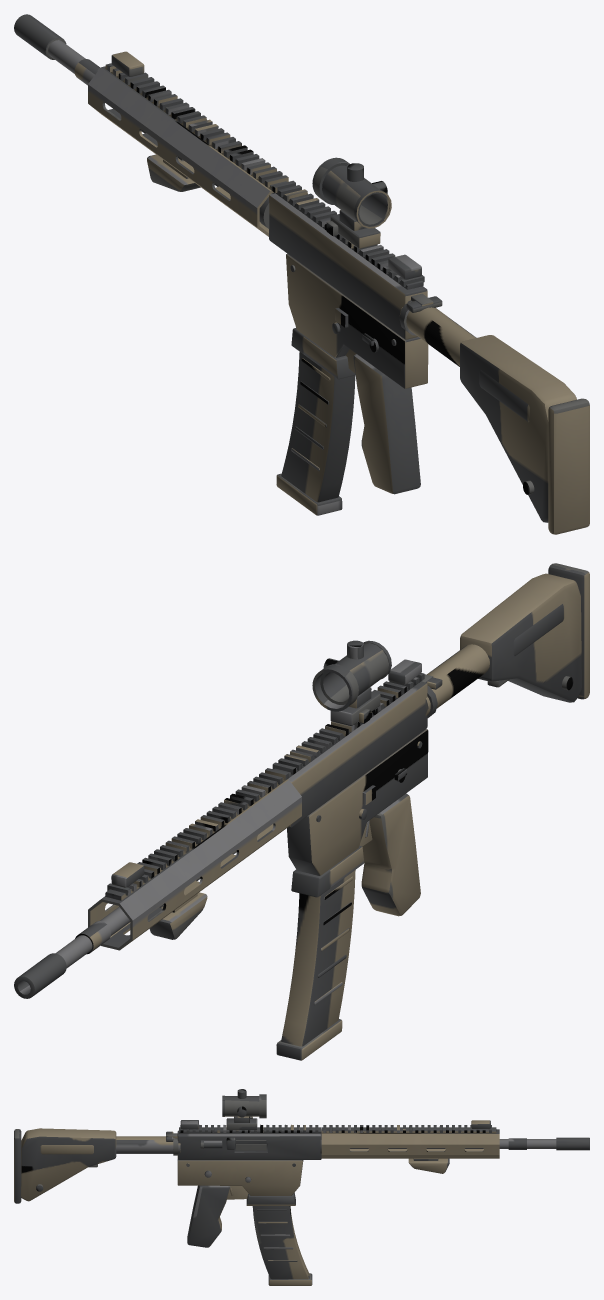
Rendered from SM_WeaponCarbine_LOD1.fbx.
3 renders of one model, top to bottom at view 1: azimuth 30°, elevation 25°; view 2: azimuth 150°, elevation 25°; view 3: azimuth 270°, elevation 25°, orthographic. The views are drawn at different scales.
Visible parts, largest first — view 1: SM_WeaponCarbine_LOD1; view 2: SM_WeaponCarbine_LOD1; view 3: SM_WeaponCarbine_LOD1.
Part boxes in pixels (bbox=[...]): SM_WeaponCarbine_LOD1: bbox=[14, 14, 589, 534]; SM_WeaponCarbine_LOD1: bbox=[14, 563, 589, 1060]; SM_WeaponCarbine_LOD1: bbox=[14, 1089, 589, 1285].
Bounding box in the file's own units: 0.0502 × 0.346 × 0.9395.
1 material, 1 textured.
